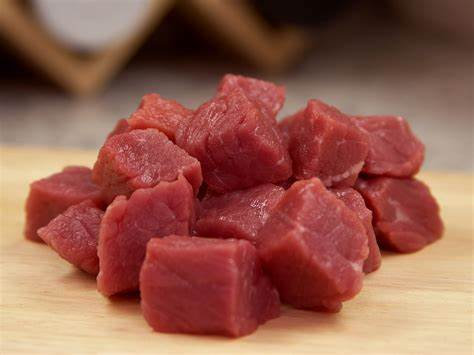Beef: (15, 62, 453, 345)
